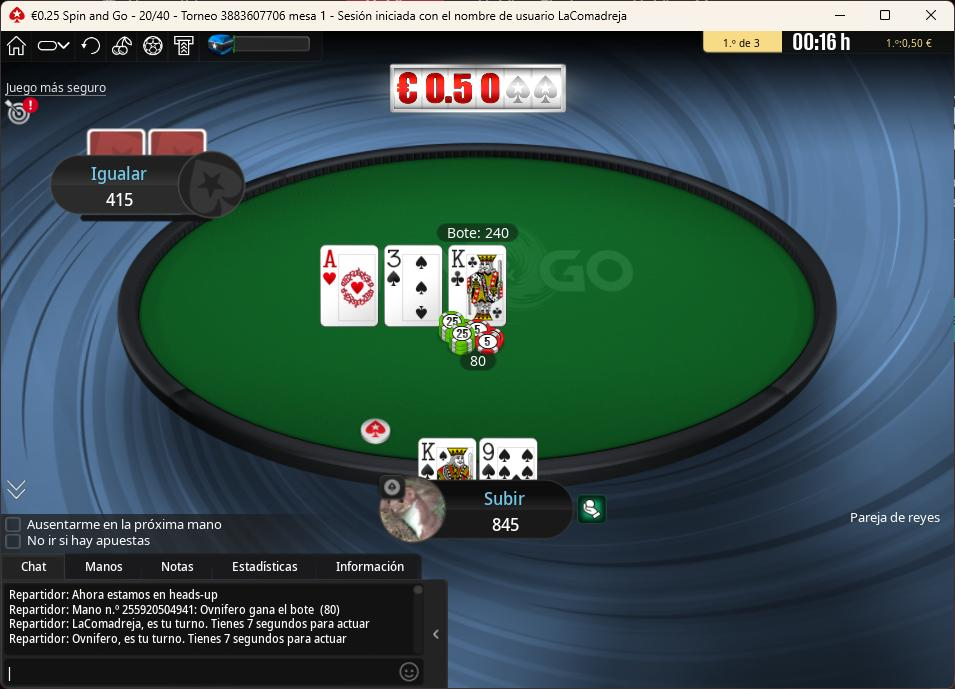Dealer: (359, 417, 392, 444)
HiddenCards: (85, 128, 207, 158)
Player: (50, 153, 250, 218)
PlayerChips: (483, 518, 530, 537), (100, 192, 142, 210)
Pot: (438, 222, 520, 242)
PrincipalCards: (417, 437, 539, 481)
PrincipalCards1: (418, 437, 478, 481)
PrincipalCards2: (480, 437, 542, 482)
PrincipalPlayer: (374, 475, 574, 543)
ShowedCards: (319, 242, 508, 330)
ShowedCards1: (319, 246, 384, 332)
ShowedCards2: (386, 246, 449, 330)
ShowedCards3: (446, 246, 510, 330)
SmallBigBlind: (128, 5, 179, 27)
TablePot: (443, 309, 508, 371)
